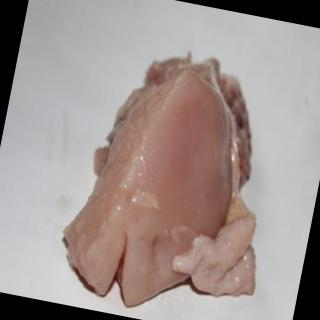Ayam: (53, 37, 297, 320)
